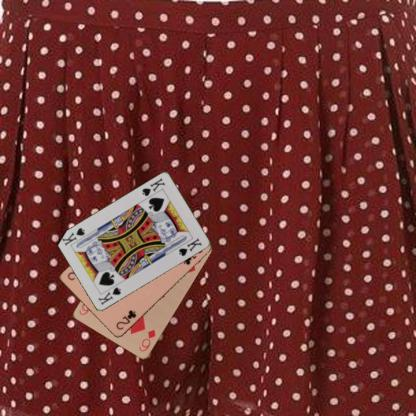2c: (113, 307, 138, 331)
6d: (136, 327, 158, 353)
Ks: (140, 176, 166, 198), (95, 285, 122, 306)
